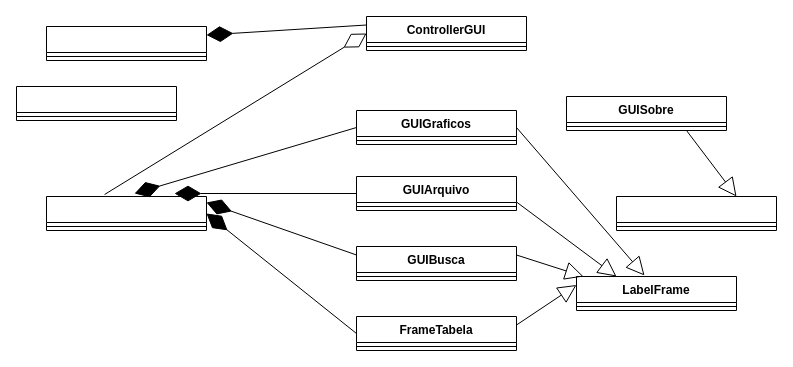
This 793x367 diagram has some shape labels left out. The centre of each missing label's shape, as x and y in pixels:
BancoDadosYT: point (126, 43)
Frame: point (696, 213)
GUIMain: point (126, 213)
VideoYT: point (96, 103)
